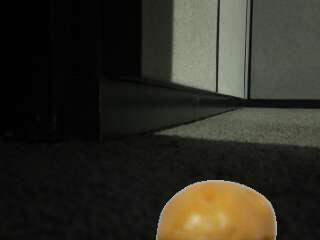Potato: (157, 179, 279, 240)
